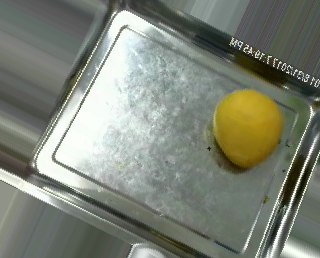Mango: (211, 87, 283, 169)
